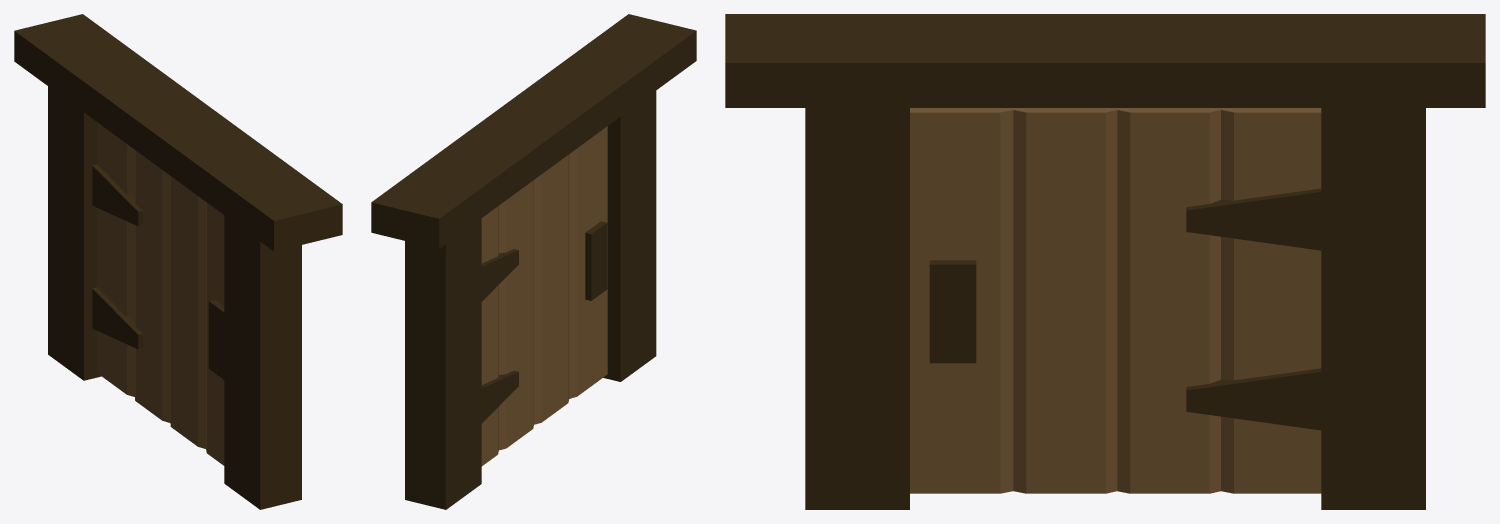
File: door.fbx
The picture shows the model from 3 angles, left to right: view 1: azimuth 30°, elevation 25°; view 2: azimuth 150°, elevation 25°; view 3: azimuth 270°, elevation 25°; orthographic projection. The views are drawn at different scales.
Parts seen in each view (by area): view 1: door.001; view 2: door.001; view 3: door.001.
Boxes of the visible parts, x1=… form: door.001: x1=14, y1=14, x2=342, y2=509; door.001: x1=371, y1=14, x2=696, y2=509; door.001: x1=725, y1=14, x2=1485, y2=509.
Bounding box in the file's own units: 40.62 × 177 × 266.
